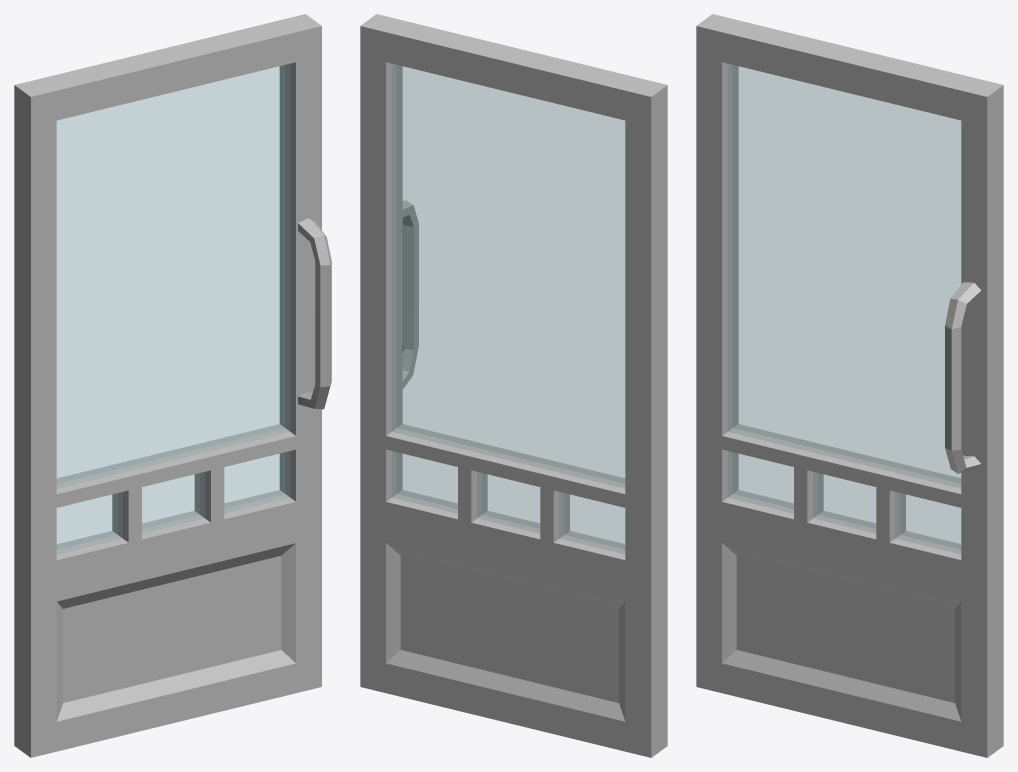
The model's file is SM_Bld_Door_05.obj.
The picture shows the model from 3 angles, left to right: view 1: azimuth 30°, elevation 25°; view 2: azimuth 150°, elevation 25°; view 3: azimuth 330°, elevation 25°; orthographic projection.
Parts seen in each view (by area): view 1: SM_Bld_Door_05_1, SM_Bld_Door_05_0; view 2: SM_Bld_Door_05_1, SM_Bld_Door_05_0; view 3: SM_Bld_Door_05_1, SM_Bld_Door_05_0.
Part boxes in pixels (x1,y1,x2,y2): SM_Bld_Door_05_1: (14, 14, 331, 757); SM_Bld_Door_05_0: (57, 64, 289, 553); SM_Bld_Door_05_1: (360, 14, 667, 757); SM_Bld_Door_05_0: (392, 64, 624, 553); SM_Bld_Door_05_1: (696, 14, 1003, 757); SM_Bld_Door_05_0: (728, 64, 960, 553).
Size of the model in its own units: 1.03 by 2.22 by 0.2342.
